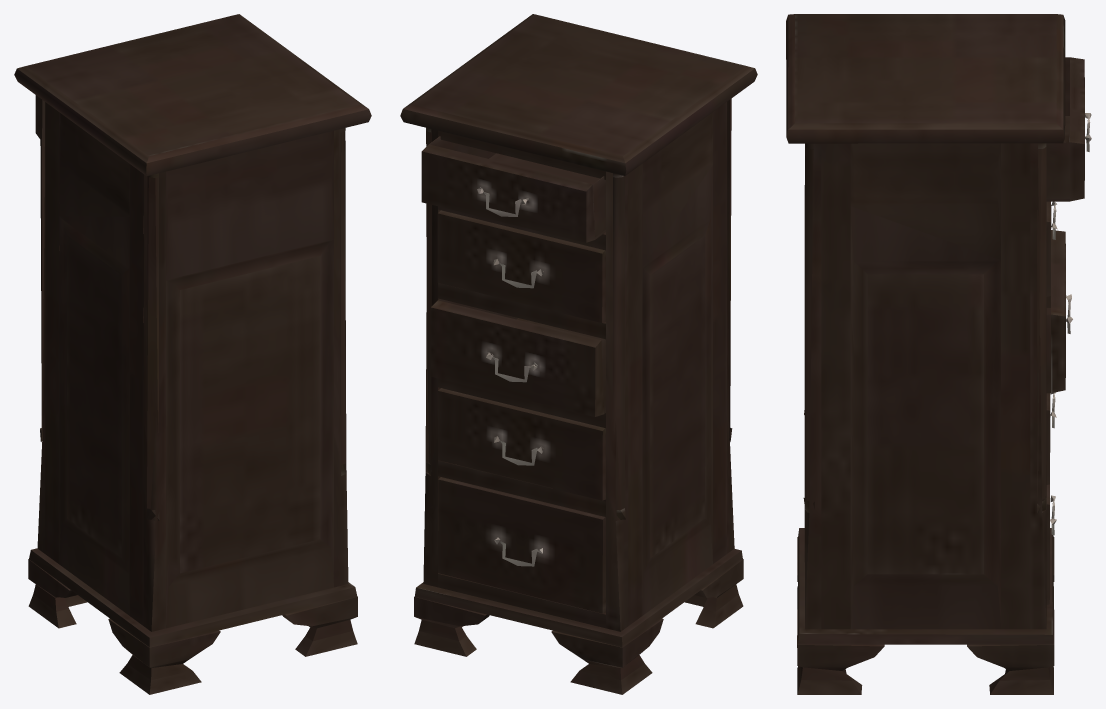
File: cabinet-drawers-small.lod1.glb
The picture shows the model from 3 angles, left to right: view 1: azimuth 30°, elevation 25°; view 2: azimuth 150°, elevation 25°; view 3: azimuth 270°, elevation 25°; orthographic projection. The views are drawn at different scales.
Parts seen in each view (by area): view 1: cabinet-drawers-small; view 2: cabinet-drawers-small; view 3: cabinet-drawers-small.
Part boxes in pixels (x1=…): cabinet-drawers-small: x1=14, y1=14, x2=371, y2=694; cabinet-drawers-small: x1=400, y1=14, x2=757, y2=694; cabinet-drawers-small: x1=786, y1=14, x2=1091, y2=694.
Size of the model in its own units: 0.4302 by 0.9818 by 0.4756.
1 material, 1 textured.
